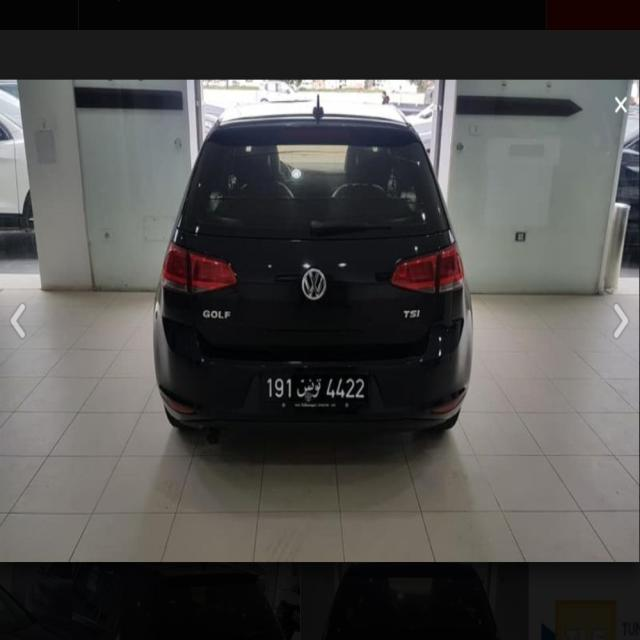LP: (257, 370, 374, 406)
